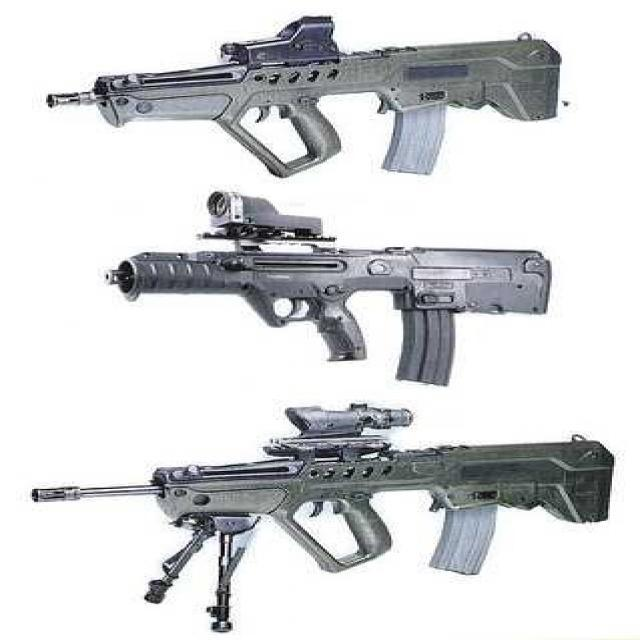weapon: (32, 386, 640, 614), (38, 162, 606, 390), (22, 0, 616, 198)
